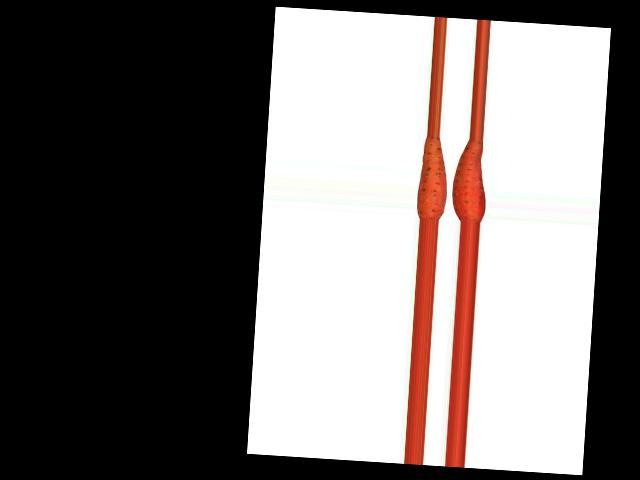sweet_potato: (416, 138, 450, 220)
